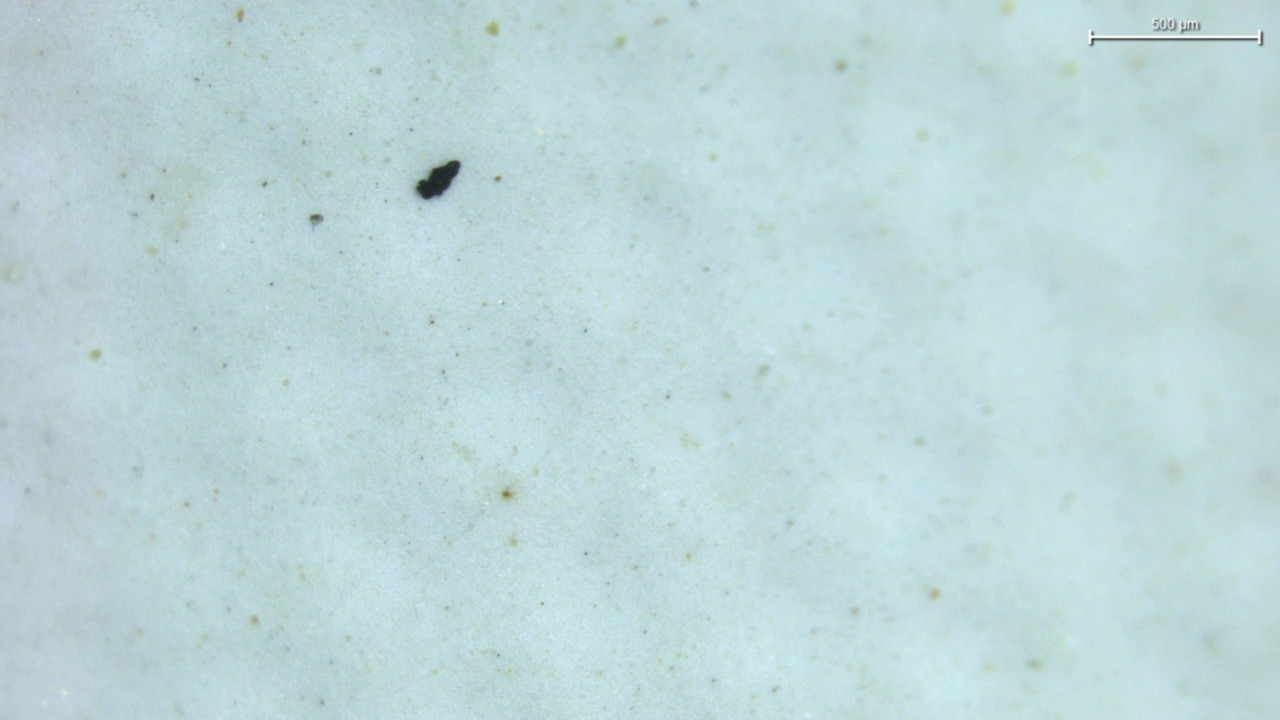microplastic_fragment: (416, 160, 460, 199)
